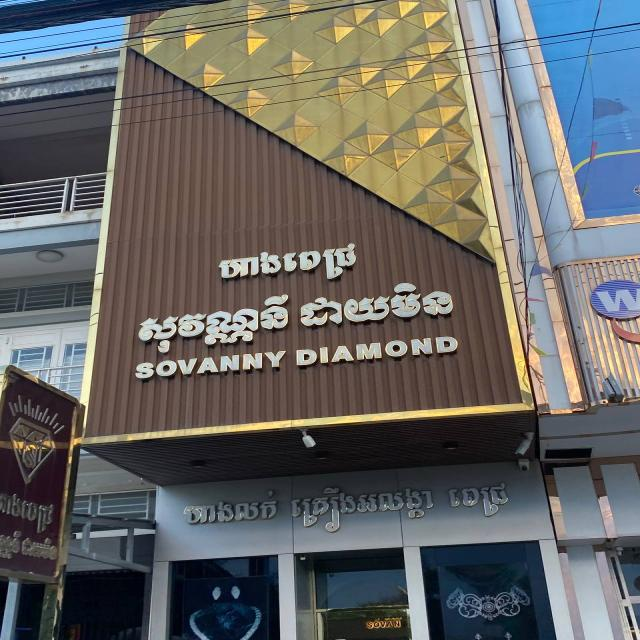Yolov11kh: (129, 276, 457, 357), (181, 475, 513, 540), (209, 237, 367, 291)
